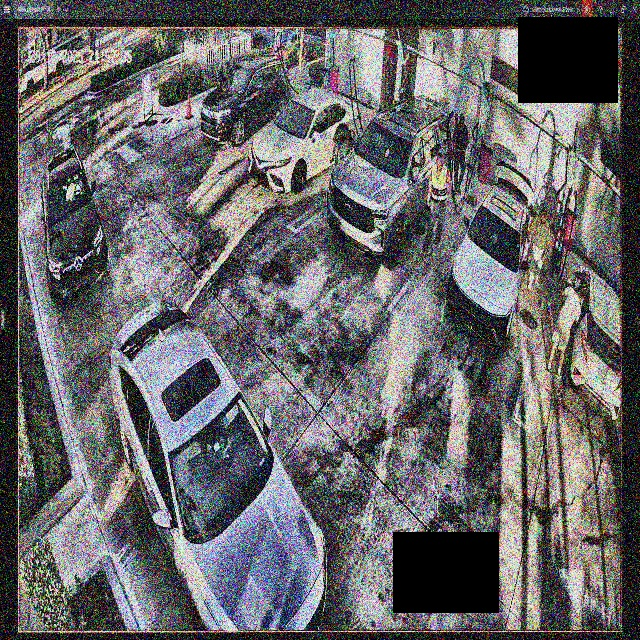Car: (108, 296, 327, 632), (325, 96, 451, 268), (449, 166, 531, 344), (246, 89, 360, 192), (201, 58, 291, 145)
